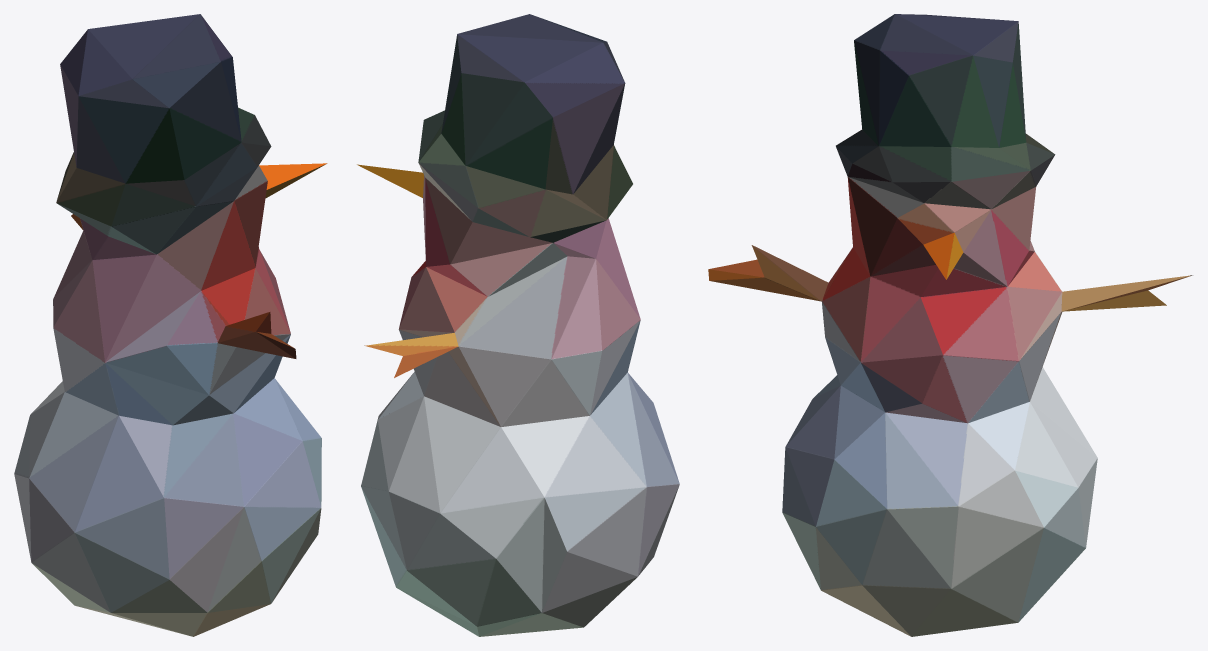
Rendered from snowman.fbx.
3 renders of one model, left to right at view 1: azimuth 30°, elevation 25°; view 2: azimuth 150°, elevation 25°; view 3: azimuth 270°, elevation 25°, orthographic.
Parts seen in each view (by area): view 1: Mesh_0; view 2: Mesh_0; view 3: Mesh_0.
Part boxes in pixels (bbox=[...]): Mesh_0: bbox=[14, 14, 327, 636]; Mesh_0: bbox=[357, 14, 679, 636]; Mesh_0: bbox=[708, 14, 1192, 636].
Size of the model in its own units: 103 by 191 by 146.
1 material, 1 textured.
